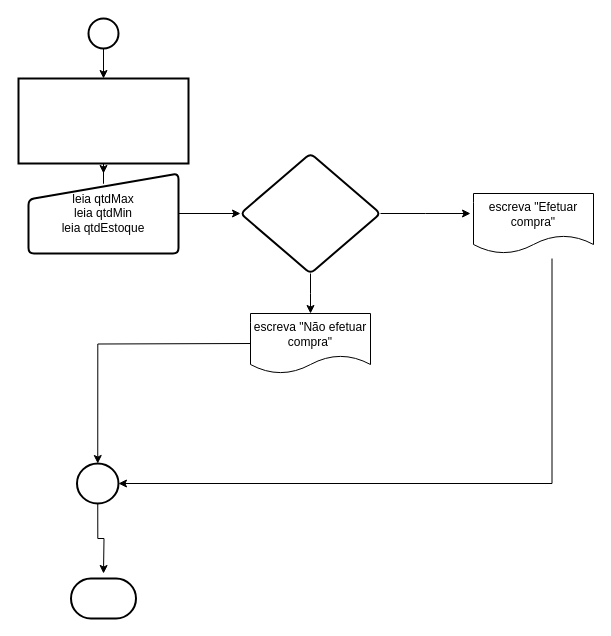
The diagram is 611 pixels wide and 636 high, and some of its shapes have lost their labels. The box of each missing label's shape, as (x1, y1, x2, y2) in pixels:
inteiro qtdMax = 0 inteiro qtdMin = 0 inteiro qtdEstoque = 0: (17, 77, 189, 164)
qtdEstoque > (qtdMax + qtdMin)/2: (239, 152, 381, 274)
